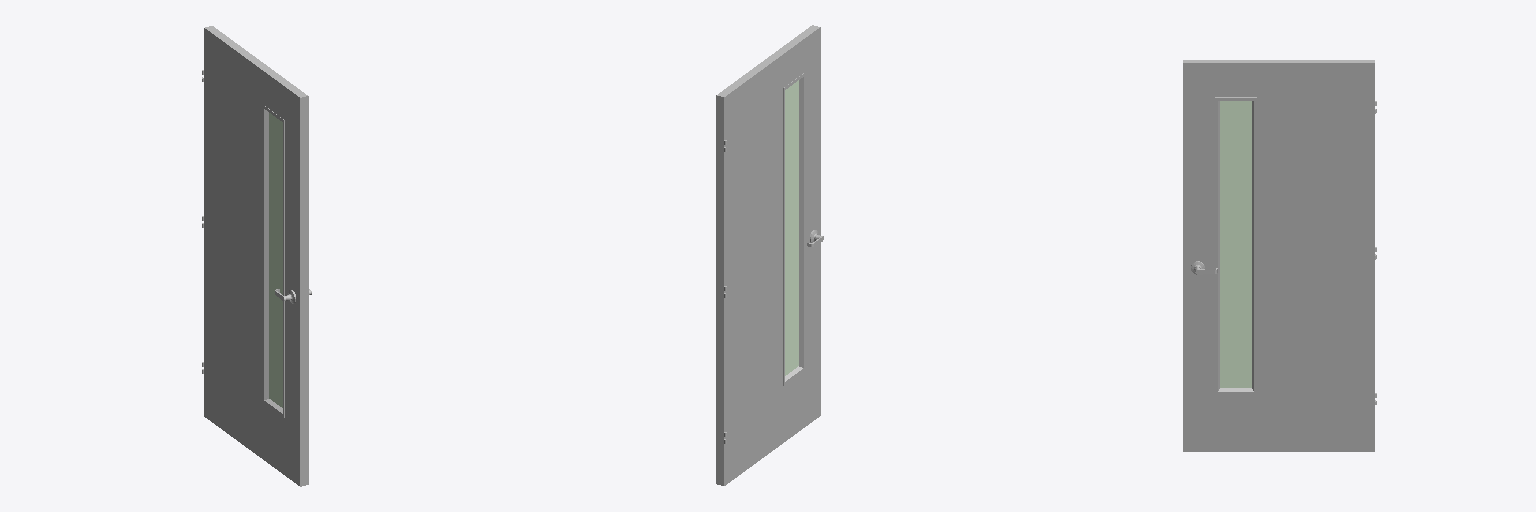
The model's file is DoorLongWindow.obj.
3 renders of one model, left to right at view 1: azimuth 30°, elevation 25°; view 2: azimuth 150°, elevation 25°; view 3: azimuth 270°, elevation 25°, orthographic.
Parts seen in each view (by area): view 1: door_004; view 2: door_004; view 3: door_004.
Part boxes in pixels (x1,y1,x2,y2): door_004: (202,26,308,486); door_004: (716,25,820,485); door_004: (1183,60,1376,451).
Size of the model in its own units: 0.1509 by 2.03 by 0.9172.